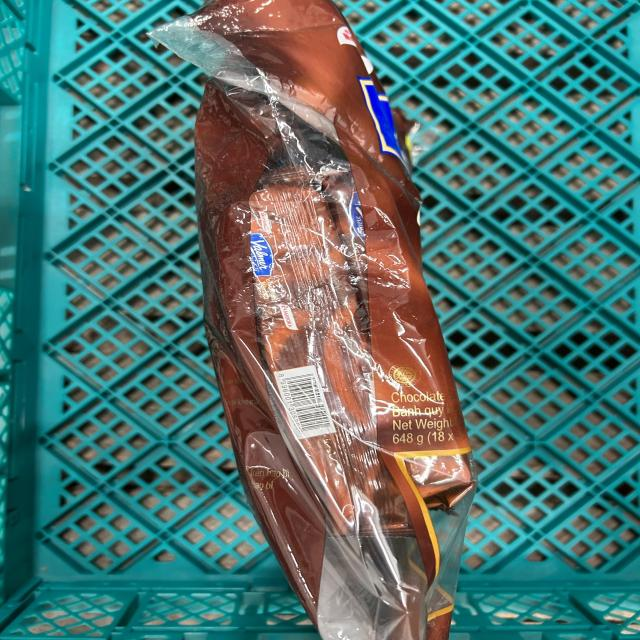object_name: (200, 20, 446, 631)
